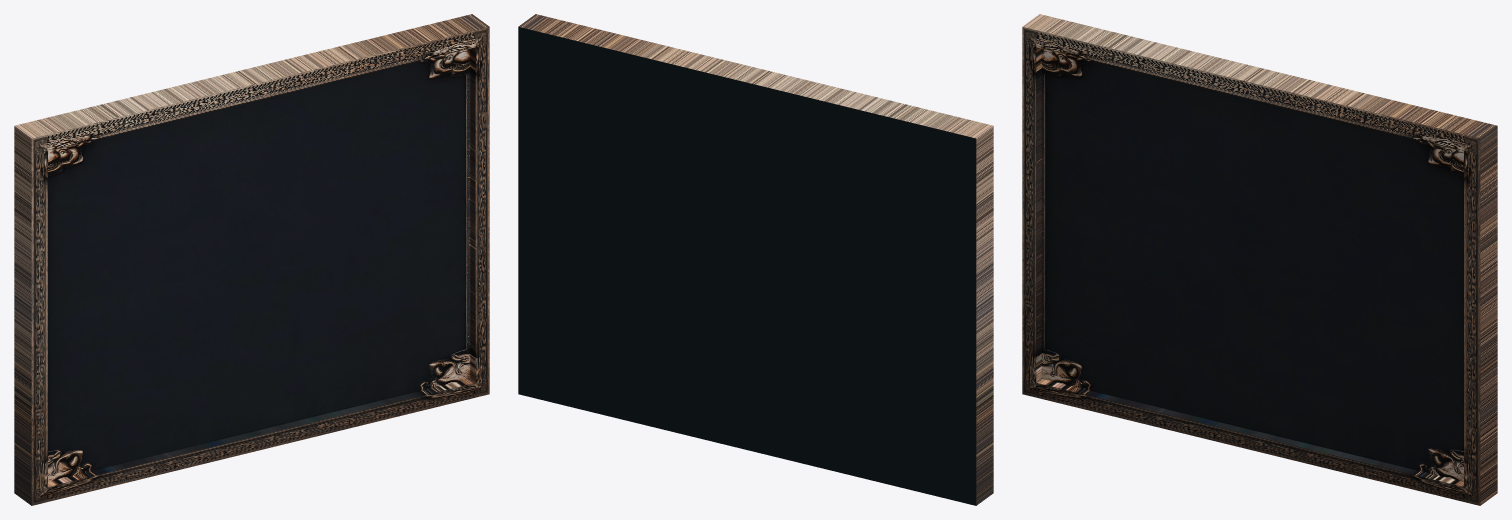
Rendered from panel_intro.glb.
The picture shows the model from 3 angles, left to right: view 1: azimuth 30°, elevation 25°; view 2: azimuth 150°, elevation 25°; view 3: azimuth 330°, elevation 25°; orthographic projection.
Parts seen in each view (by area): view 1: panel_intro; view 2: panel_intro; view 3: panel_intro.
Part boxes in pixels (x1,y1,x2,y2): panel_intro: (14, 14, 489, 505); panel_intro: (518, 14, 993, 505); panel_intro: (1022, 14, 1497, 505).
Size of the model in its own units: 0.6 by 0.46 by 0.042.
Materials: 1 (1 with a texture image).
